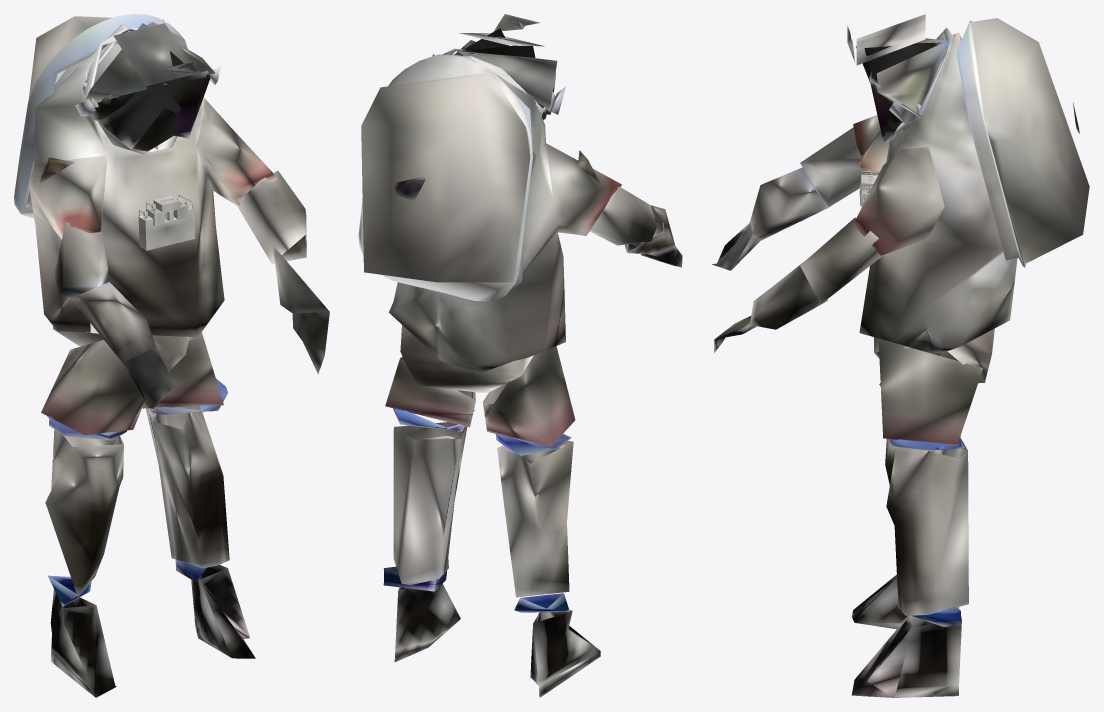
Rendered from space-z2-suit.glb.
3 renders of one model, left to right at view 1: azimuth 30°, elevation 25°; view 2: azimuth 150°, elevation 25°; view 3: azimuth 270°, elevation 25°, orthographic.
Visible parts, largest first — view 1: Z2; view 2: Z2; view 3: Z2.
Boxes of the visible parts, left/top/right/bottom form: Z2: left=14, top=14, right=329, bottom=697; Z2: left=358, top=14, right=682, bottom=697; Z2: left=712, top=14, right=1089, bottom=697.
Bounding box in the file's own units: 0.7813 × 1.9 × 1.03.
1 material, 1 textured.
